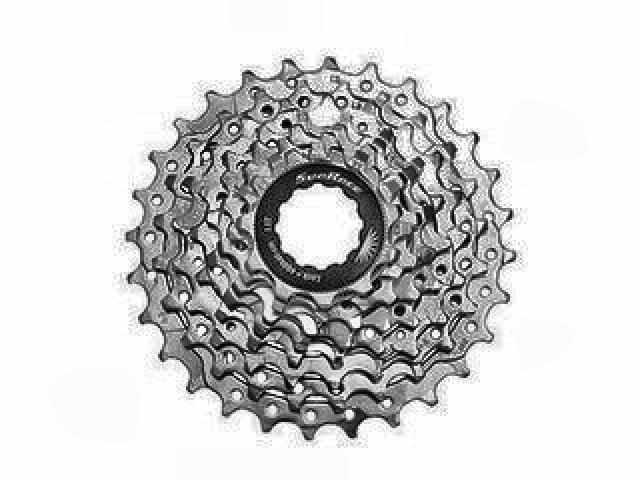cassette: (124, 55, 516, 442)
